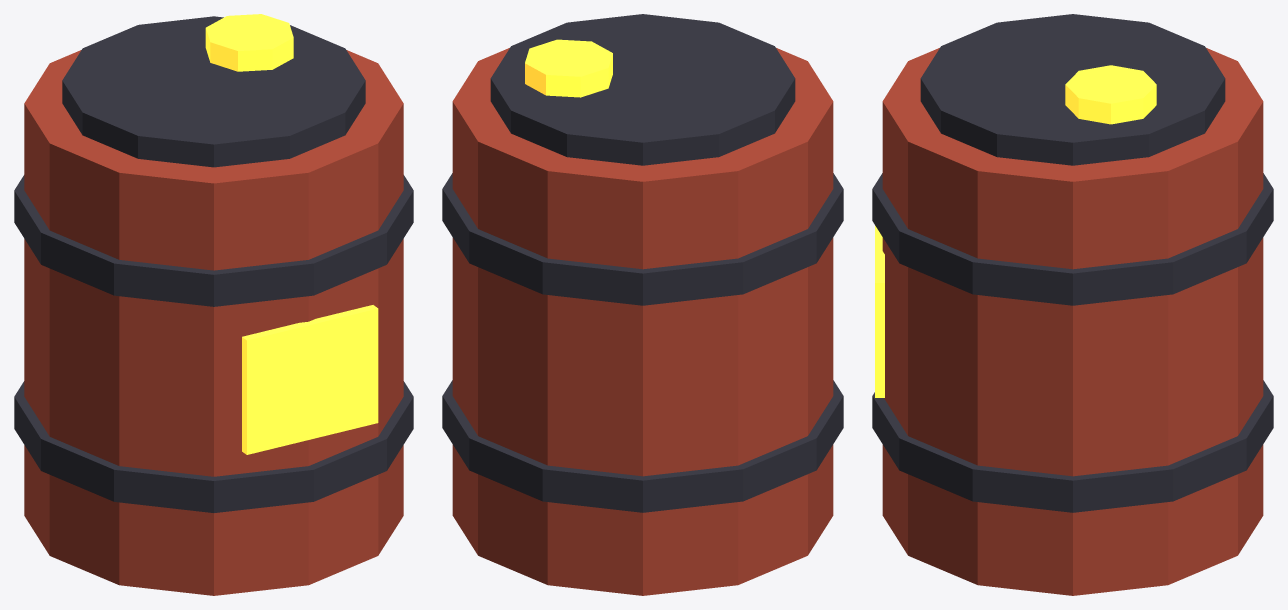
The model's file is oil_barrel.fbx.
3 renders of one model, left to right at view 1: azimuth 30°, elevation 25°; view 2: azimuth 150°, elevation 25°; view 3: azimuth 270°, elevation 25°, orthographic.
Visible parts, largest first — view 1: Oil_barrel; view 2: Oil_barrel; view 3: Oil_barrel.
Boxes of the visible parts, x1=… form: Oil_barrel: x1=14, y1=14, x2=413, y2=595; Oil_barrel: x1=442, y1=14, x2=843, y2=595; Oil_barrel: x1=872, y1=14, x2=1273, y2=595.
Size of the model in its own units: 1.58 by 1.99 by 1.58.
